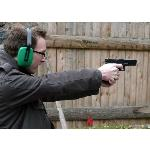Pistol: (100, 57, 136, 85)
